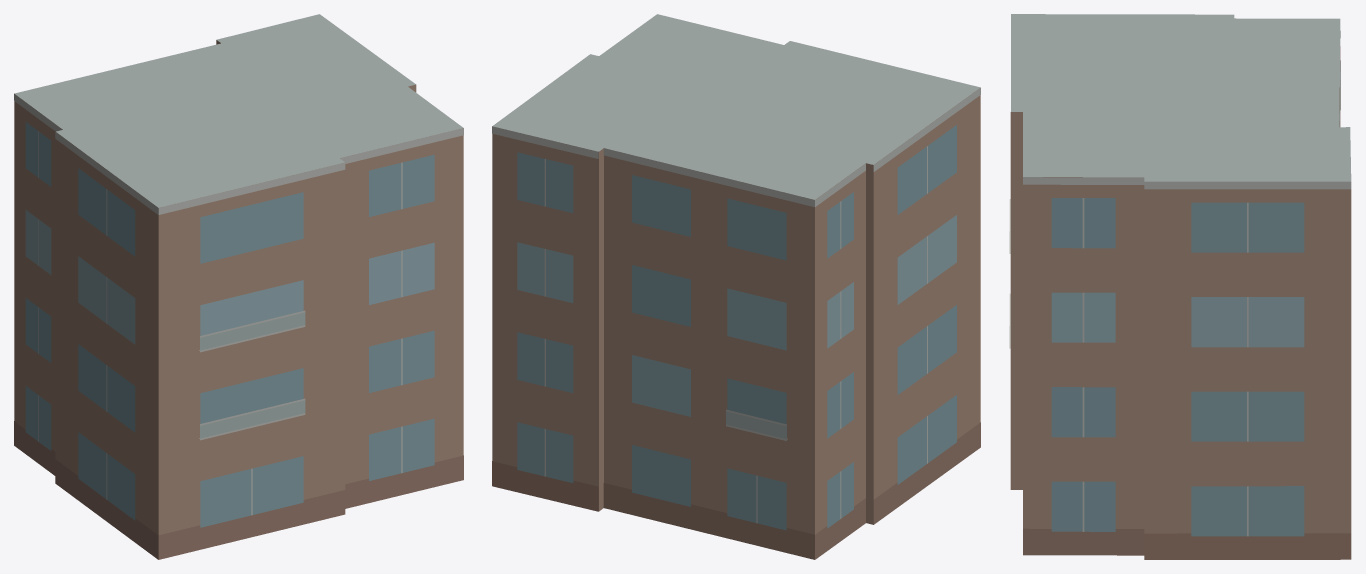
Rendered from survey-upis-32664710.glb.
3 views of the same model, side by side, from view 1: azimuth 30°, elevation 25°; view 2: azimuth 150°, elevation 25°; view 3: azimuth 270°, elevation 25° (orthographic). The views are drawn at different scales.
Visible parts, largest first — view 1: survey-upis-32664710.tmp; view 2: survey-upis-32664710.tmp; view 3: survey-upis-32664710.tmp.
Boxes of the visible parts, box(x1,y1,x2,y2) form: survey-upis-32664710.tmp: box(14, 14, 463, 559); survey-upis-32664710.tmp: box(492, 14, 980, 559); survey-upis-32664710.tmp: box(1009, 14, 1351, 559).
Bounding box in the file's own units: 11.33 × 11.9 × 9.76.
